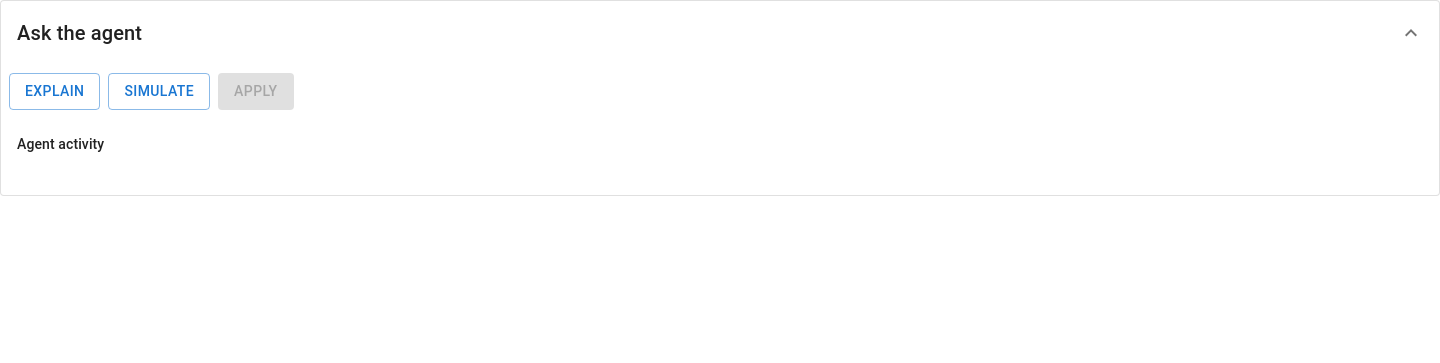
Test: AgentPanel (screen.custom / agent-panel) › accepts the generated slot props (schema, values) in place of args
The width and height of the screenshot is (1440, 363).
Click the button with test id "agent-explain": {"x": 55, "y": 91} [9,73,100,110]
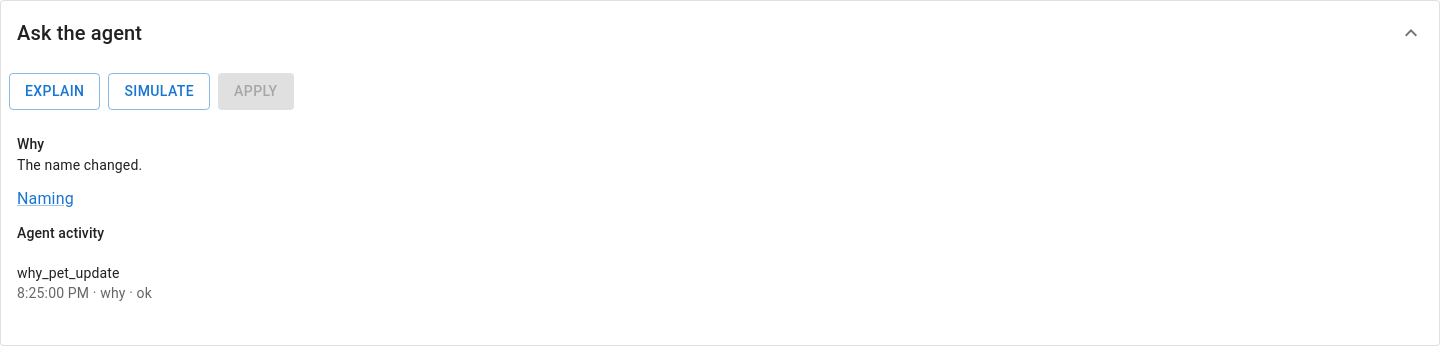
expect the element with test id "agent-rationale" is shown: met, box [17,136,142,208]
